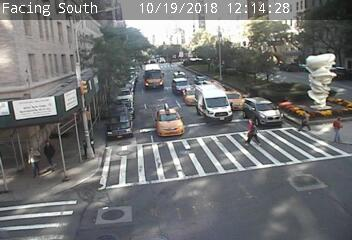car: (196, 85, 231, 121), (244, 94, 283, 126), (156, 105, 184, 135), (143, 63, 164, 88), (226, 88, 245, 110), (181, 86, 200, 104)
